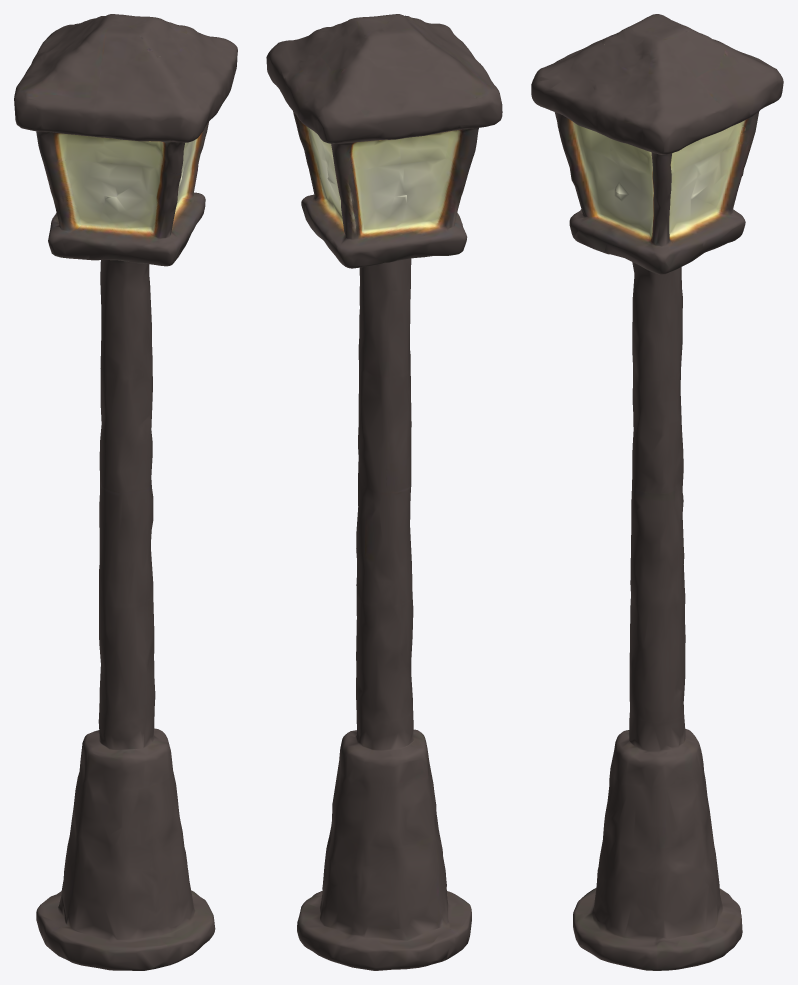
File: lamp.glb
3 views of the same model, side by side, from view 1: azimuth 30°, elevation 25°; view 2: azimuth 150°, elevation 25°; view 3: azimuth 270°, elevation 25° (orthographic).
Parts seen in each view (by area): view 1: tripo_node_ac165db7-d96b-4f08-93d7-de08b7454061; view 2: tripo_node_ac165db7-d96b-4f08-93d7-de08b7454061; view 3: tripo_node_ac165db7-d96b-4f08-93d7-de08b7454061.
Part boxes in pixels (x1,y1,x2,y2): tripo_node_ac165db7-d96b-4f08-93d7-de08b7454061: [14, 14, 237, 970]; tripo_node_ac165db7-d96b-4f08-93d7-de08b7454061: [266, 14, 502, 970]; tripo_node_ac165db7-d96b-4f08-93d7-de08b7454061: [531, 14, 783, 970].
Bounding box in the file's own units: 0.2602 × 0.9999 × 0.2512.
1 material, 1 textured.
